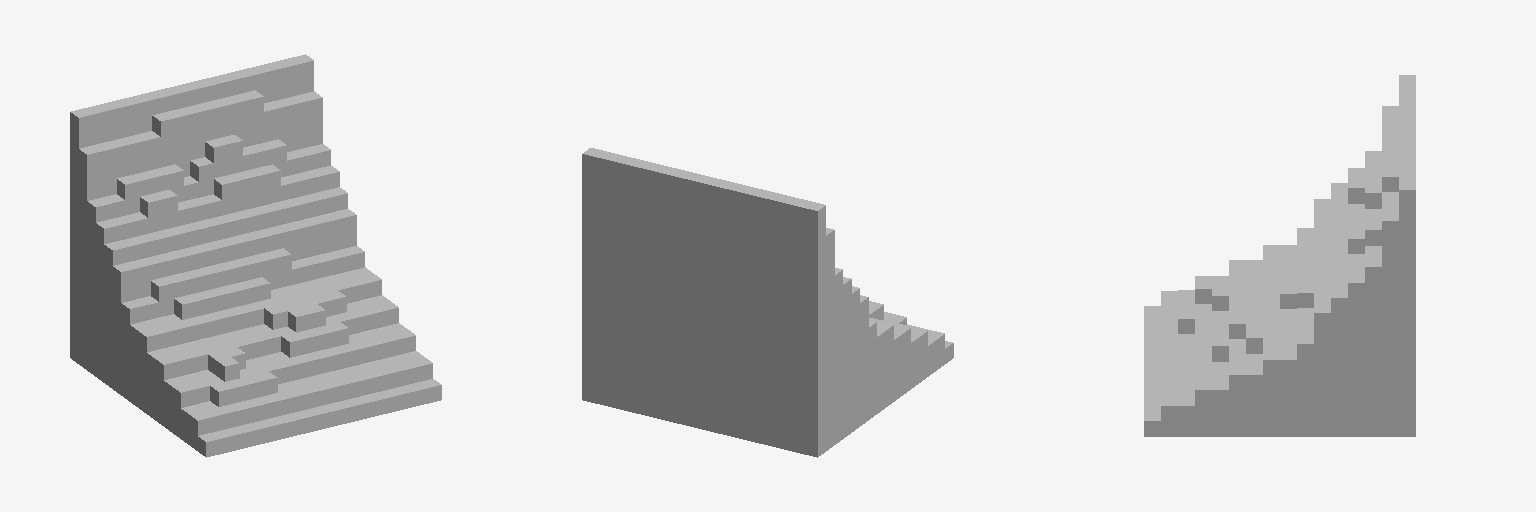
The model's file is civ_slope.obj.
3 views of the same model, side by side, from view 1: azimuth 30°, elevation 25°; view 2: azimuth 150°, elevation 25°; view 3: azimuth 270°, elevation 25° (orthographic).
Visible parts, largest first — view 1: grassyslope.001; view 2: grassyslope.001; view 3: grassyslope.001.
Part boxes in pixels (x1,y1,x2,y2): grassyslope.001: (70,54,441,457); grassyslope.001: (582,148,953,457); grassyslope.001: (1144,75,1415,436).
Size of the model in its own units: 1 by 1 by 1.